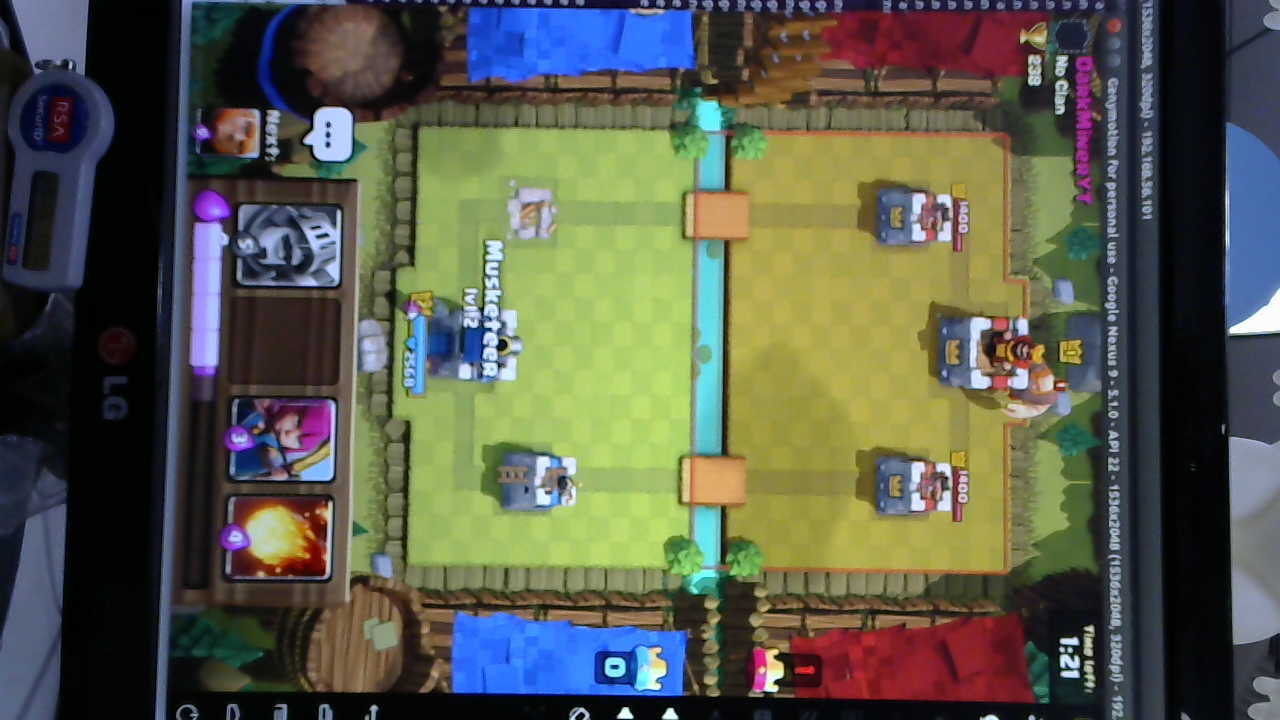arena: (496, 450, 582, 515)
darena: (501, 183, 556, 241)
earena: (871, 189, 956, 251), (872, 457, 955, 518)
eking: (940, 311, 1045, 394)
giant: (999, 351, 1060, 426)
king: (433, 307, 523, 386)
